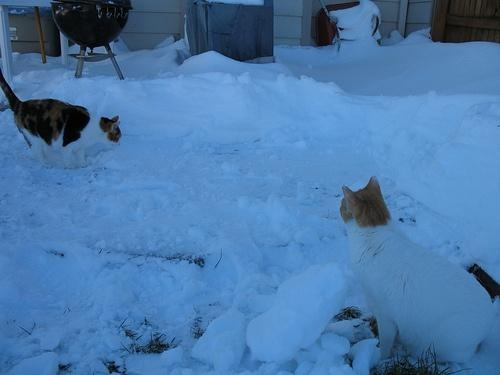cat: (338, 176, 500, 365), (1, 78, 124, 168)
